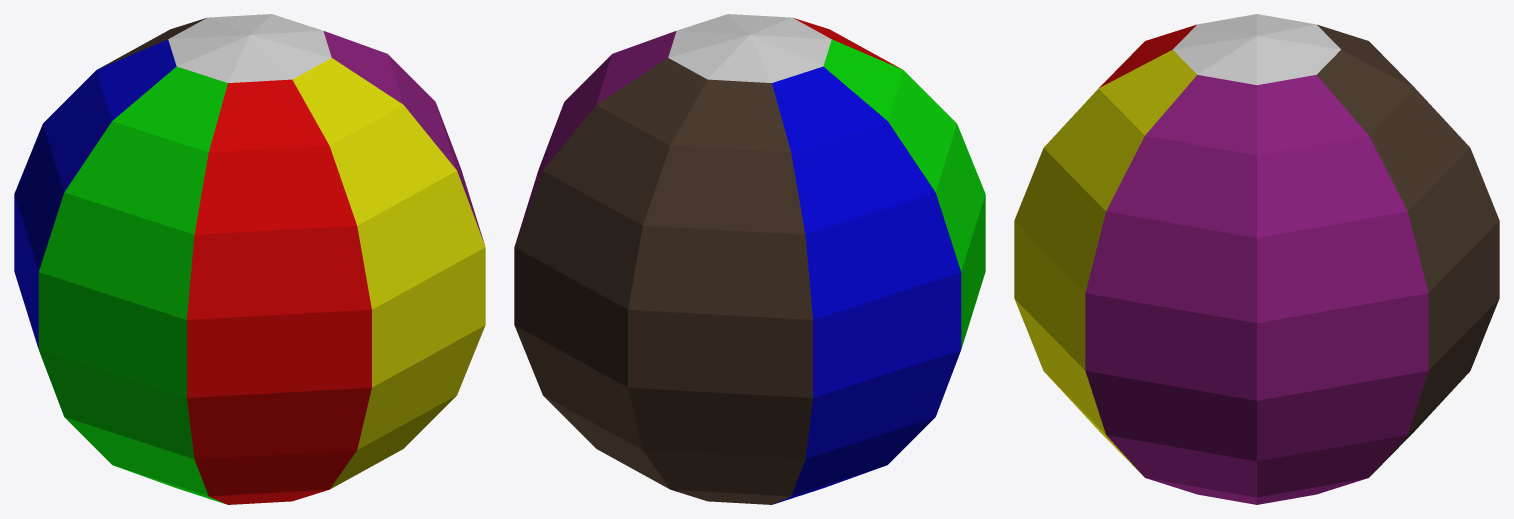
The model's file is lightTest.dae.
The picture shows the model from 3 angles, left to right: view 1: azimuth 30°, elevation 25°; view 2: azimuth 150°, elevation 25°; view 3: azimuth 270°, elevation 25°; orthographic projection.
Parts seen in each view (by area): view 1: pSphere1; view 2: pSphere1; view 3: pSphere1.
Boxes of the visible parts, box(x1,y1,x2,y2) form: pSphere1: box(14, 14, 485, 504); pSphere1: box(514, 14, 985, 504); pSphere1: box(1014, 14, 1499, 504).
Bounding box in the file's own units: 1.97 × 2 × 1.97.
